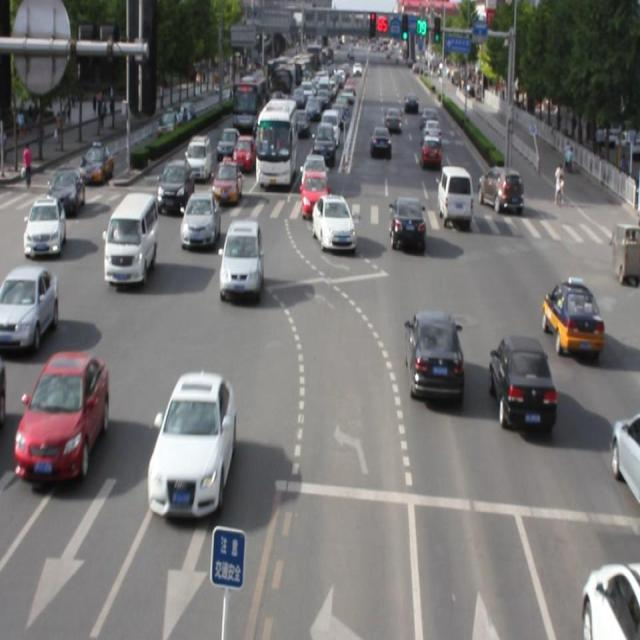car: (148, 370, 233, 520), (14, 351, 110, 482), (488, 334, 554, 432), (404, 307, 461, 405), (581, 558, 640, 640), (542, 280, 602, 353), (219, 219, 262, 299), (610, 410, 640, 499), (311, 194, 354, 254), (182, 191, 219, 251), (389, 196, 424, 250)
truck: (104, 191, 158, 284), (436, 165, 472, 224)
